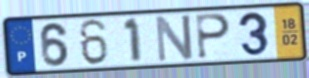1: (121, 17, 146, 64)
3: (235, 10, 273, 58)
6: (78, 17, 111, 68), (39, 20, 70, 69)
N: (153, 13, 195, 65)
P: (194, 12, 232, 61)
